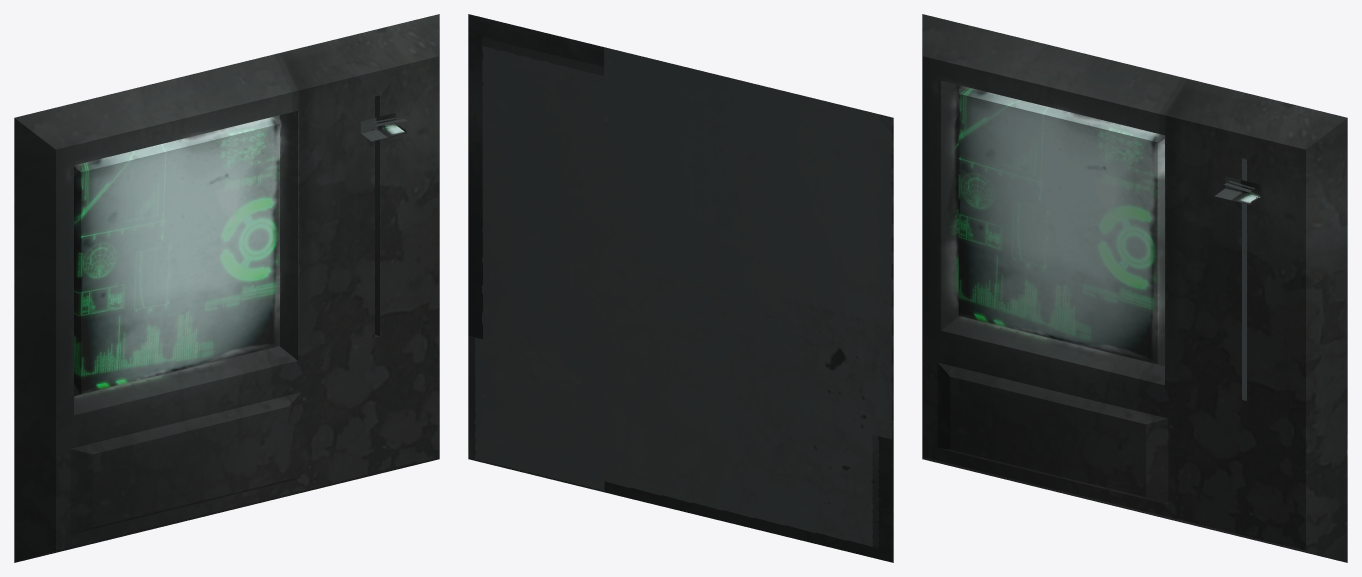
File: Switchboard.fbx
The picture shows the model from 3 angles, left to right: view 1: azimuth 30°, elevation 25°; view 2: azimuth 150°, elevation 25°; view 3: azimuth 330°, elevation 25°; orthographic projection.
Parts seen in each view (by area): view 1: pCube1, pCube2; view 2: pCube1; view 3: pCube1, pCube2.
Boxes of the visible parts, left/top/right/bottom form: pCube1: left=14, top=14, right=439, bottom=562; pCube2: left=360, top=113, right=406, bottom=141; pCube1: left=468, top=14, right=893, bottom=562; pCube1: left=922, top=14, right=1347, bottom=562; pCube2: left=1215, top=176, right=1260, bottom=204.
Bounding box in the file's own units: 12.03 × 12.03 × 1.64.
Materials: 1 (1 with a texture image).
